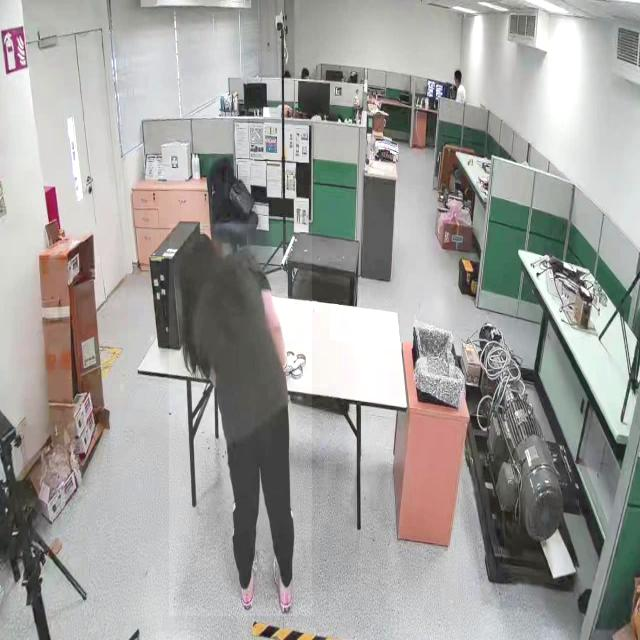head_nohelmet: (178, 230, 210, 270), (454, 68, 462, 76)
person: (169, 224, 313, 617)
shoes: (233, 543, 261, 611), (270, 549, 296, 619)
